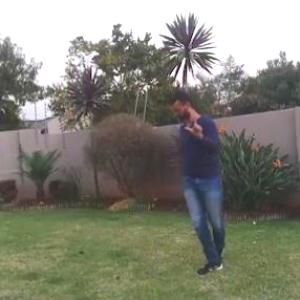land_hand: (183, 110, 204, 140)
